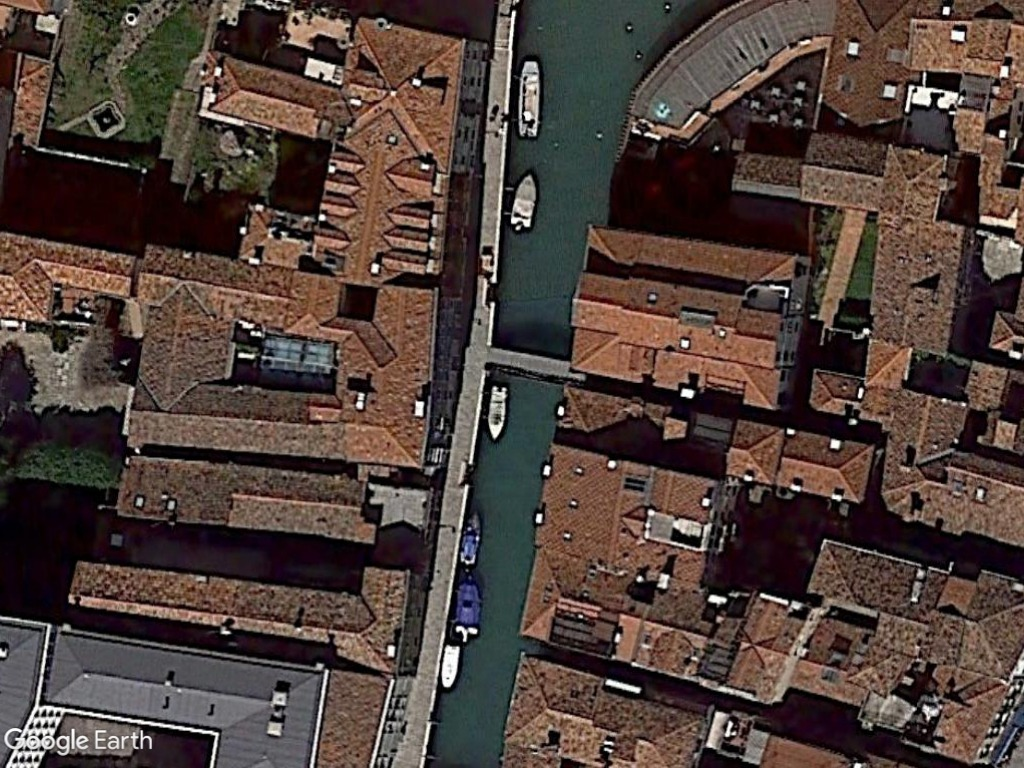boat: (513, 55, 544, 142), (506, 169, 541, 237), (452, 570, 485, 640), (454, 508, 486, 573), (480, 382, 511, 446), (437, 638, 463, 695)
